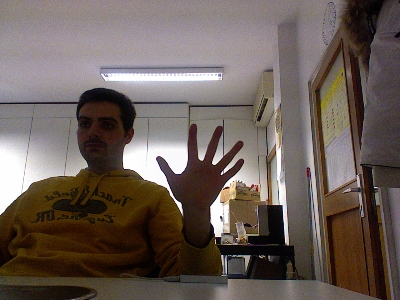布: (154, 122, 245, 209)
